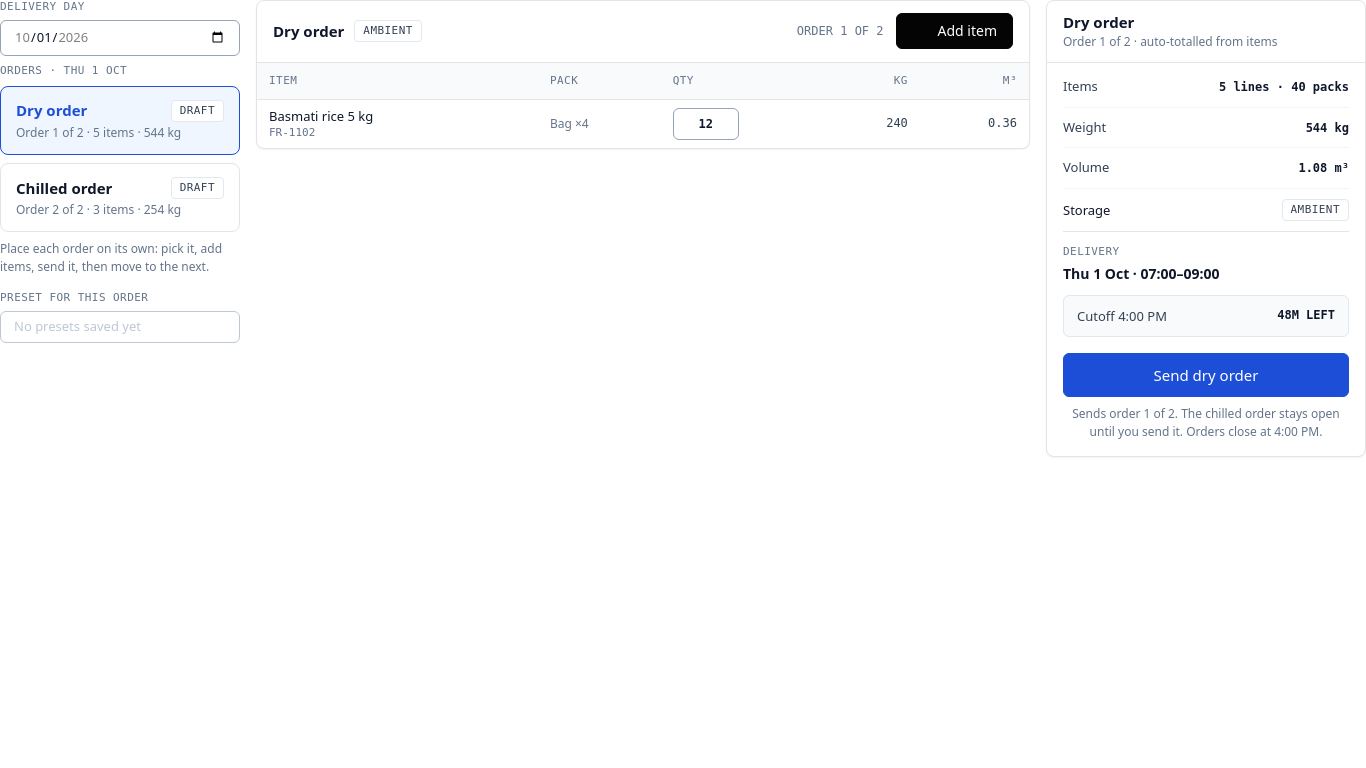
Test: M1a Add item › searches the range by name and shows an empty state when nothing matches
Click the button "Add item" at (954, 31), box [896,13,1013,49]
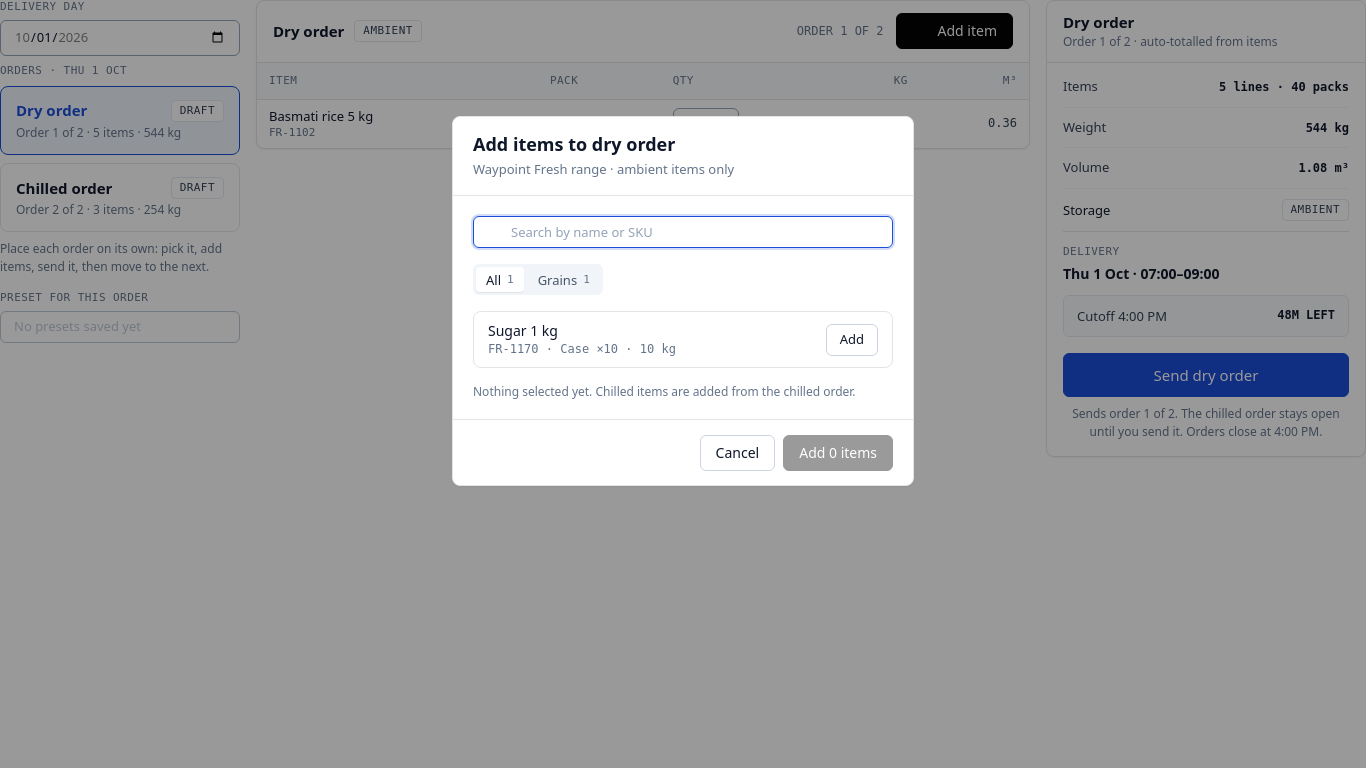
Type "lentils" into the search field labelled "Search by name or SKU" at (683, 232), box [473,216,893,248]
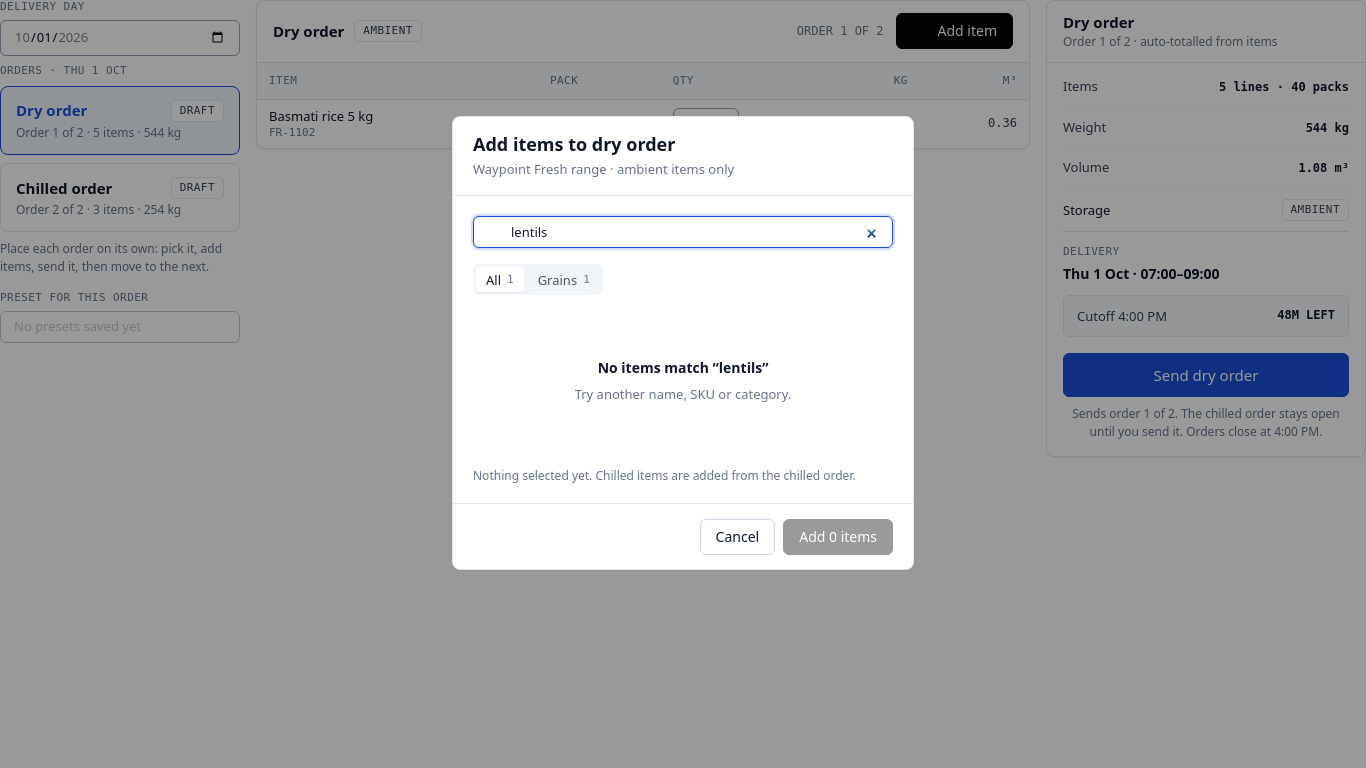
expect the text "No items match “lentils”" is shown: met, box [598,359,768,377]
